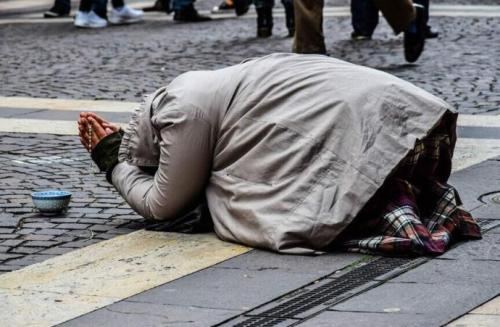fall: (59, 48, 488, 269)
